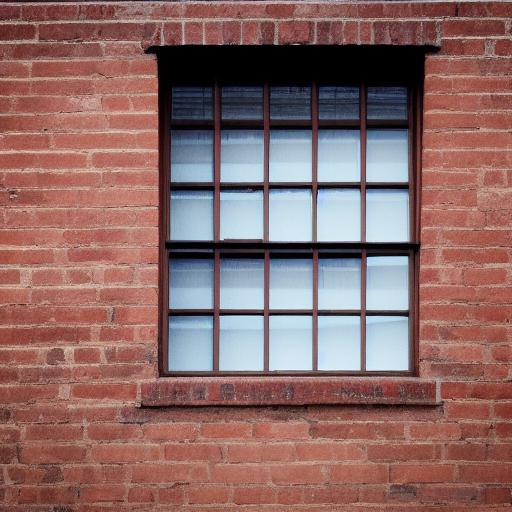Window: (140, 21, 442, 407)
